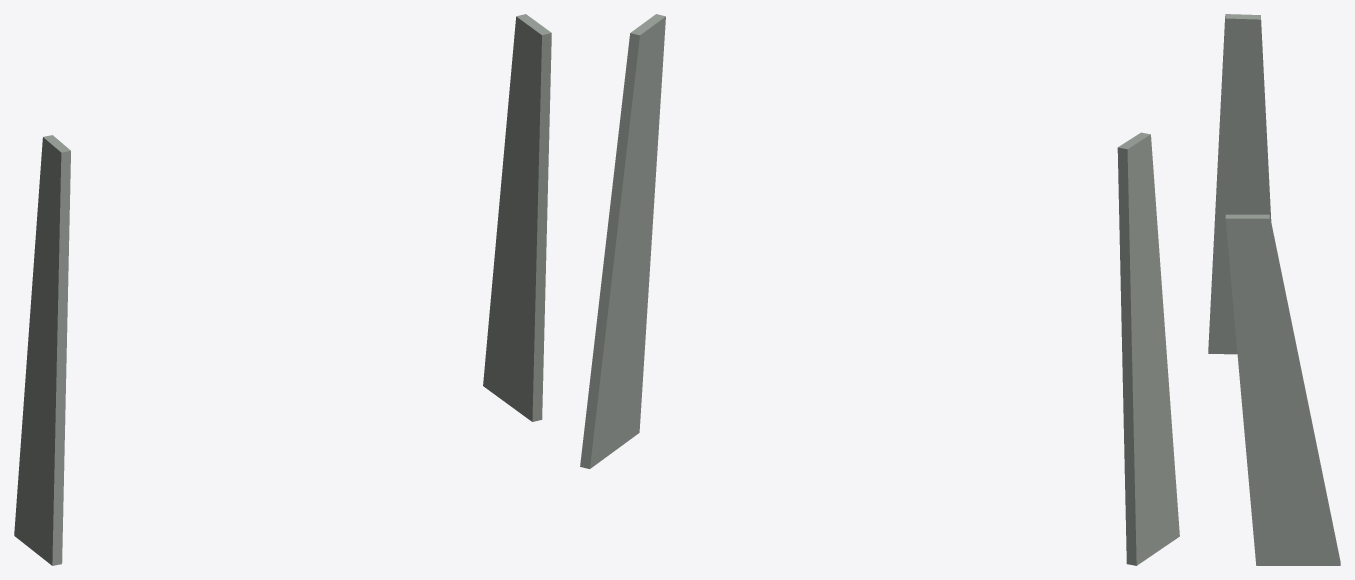
Rendered from patitas.obj.
3 views of the same model, side by side, from view 1: azimuth 30°, elevation 25°; view 2: azimuth 150°, elevation 25°; view 3: azimuth 270°, elevation 25° (orthographic). The views are drawn at different scales.
Visible parts, largest first — view 1: polySurface258 pizzarron_pCube3, pizzarron_pCube3 polySurface259; view 2: polySurface258 pizzarron_pCube3, pizzarron_pCube3 polySurface259; view 3: polySurface258 pizzarron_pCube3, pizzarron_pCube3 polySurface259.
Boxes of the visible parts, bbox=[...] form: polySurface258 pizzarron_pCube3: bbox=[483, 14, 551, 421]; pizzarron_pCube3 polySurface259: bbox=[14, 135, 70, 565]; polySurface258 pizzarron_pCube3: bbox=[580, 14, 665, 468]; pizzarron_pCube3 polySurface259: bbox=[1117, 132, 1179, 565]; polySurface258 pizzarron_pCube3: bbox=[1225, 214, 1340, 565]; pizzarron_pCube3 polySurface259: bbox=[1208, 14, 1271, 354].
Bounding box in the file's own units: 1.93 × 1.43 × 0.4992.
1 material, 1 textured.
